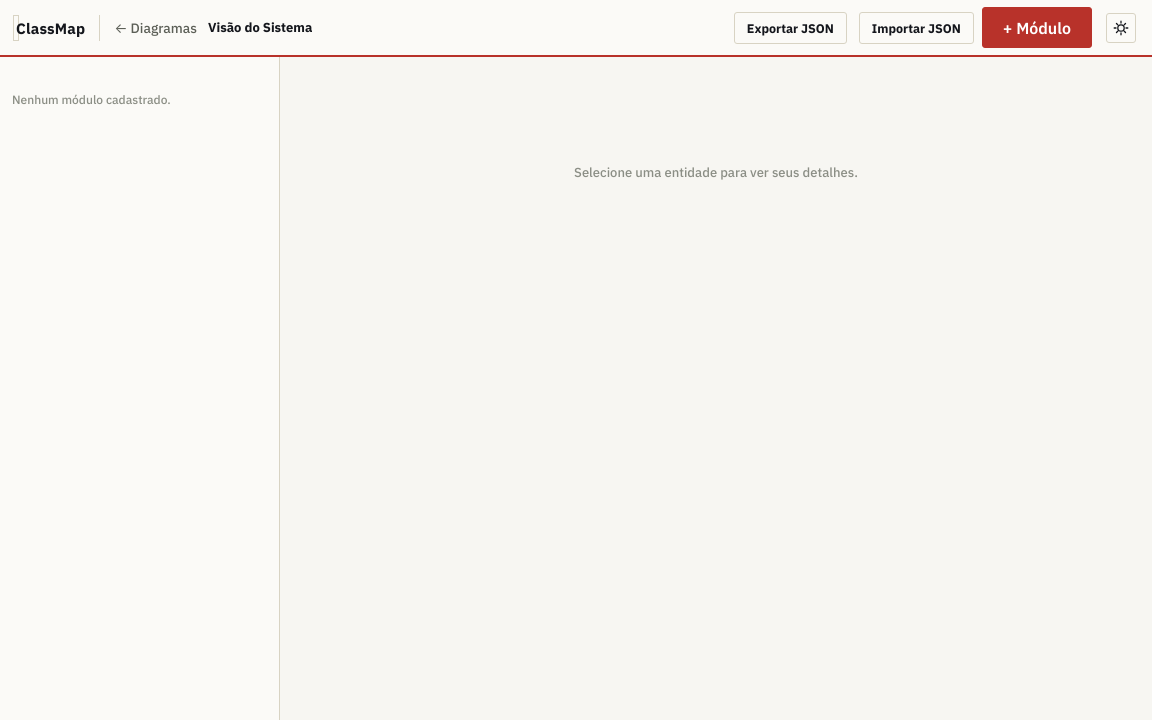
SystemViewPage › TASK-021 — excluir módulo › CA-01: excluir remove o módulo e persiste
Click the button "+ Módulo": [1037, 28] box 982,7 -> 1092,48
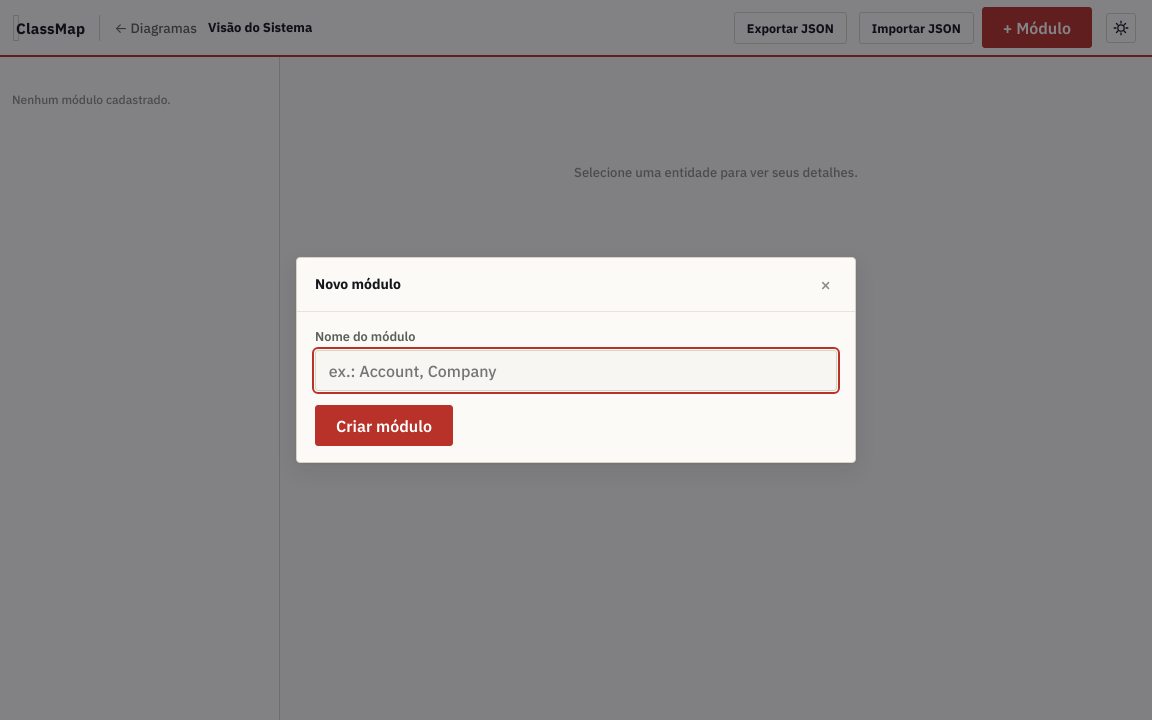
In the field labelled "Nome do módulo": [576, 371] box 315,350 -> 837,391, type "Account"
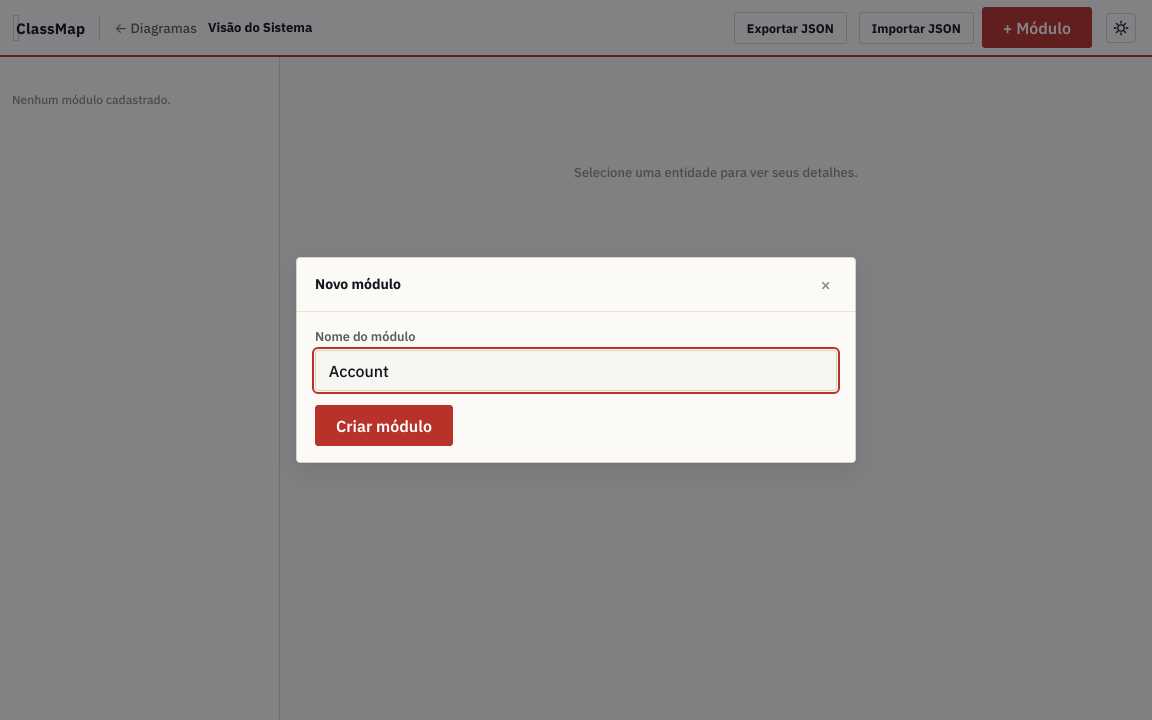
Click the button "Criar módulo": [384, 426] box 315,405 -> 453,446
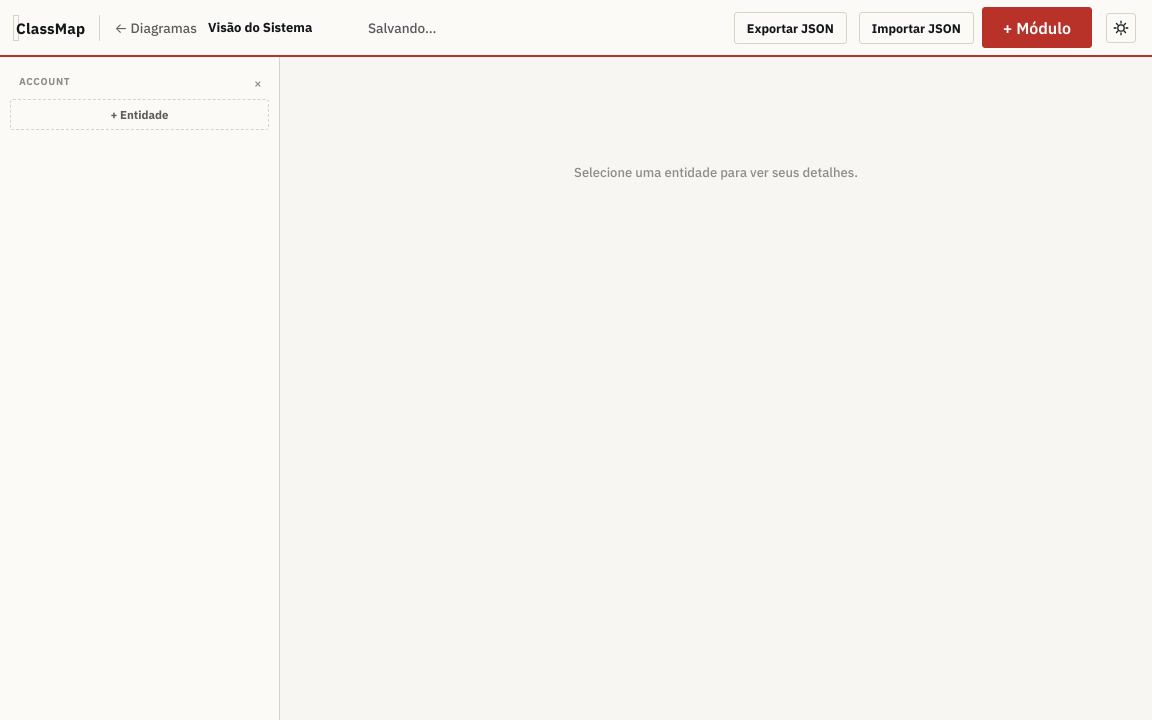
Click the button named "Excluir módulo Account": [258, 84] box 247,72 -> 269,94
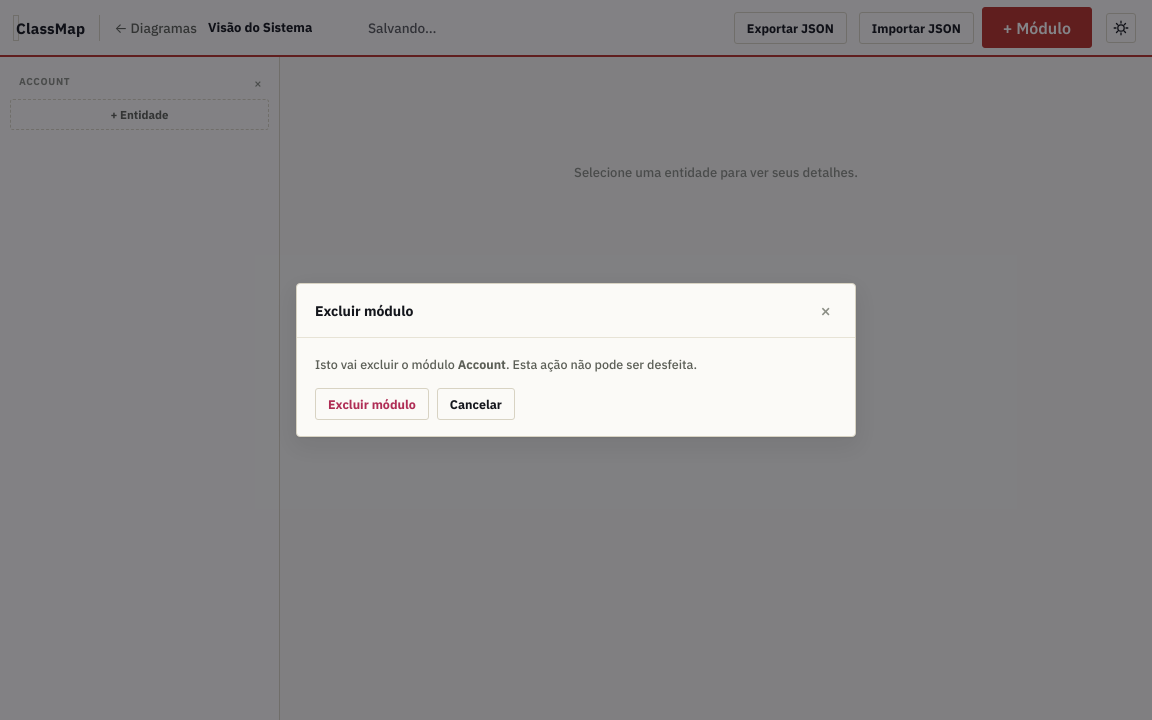
Click the button "Excluir módulo": [372, 404] box 315,388 -> 429,420
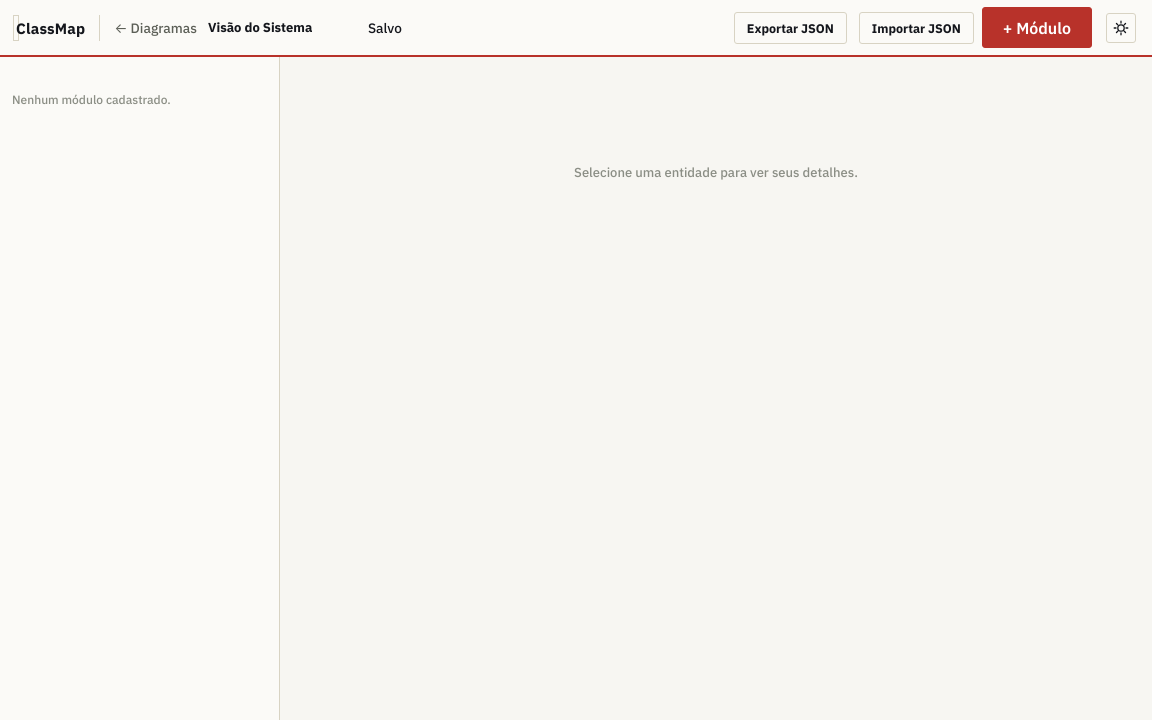
Expected: the text showing "Account" is gone
